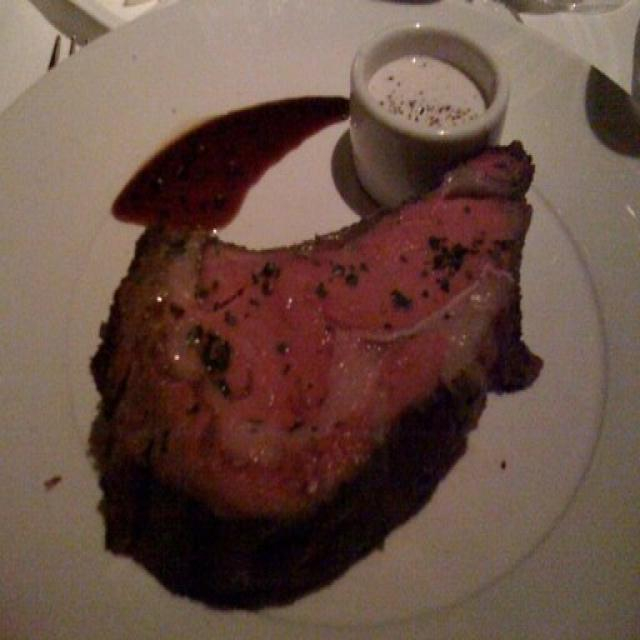rib: (100, 145, 551, 555)
